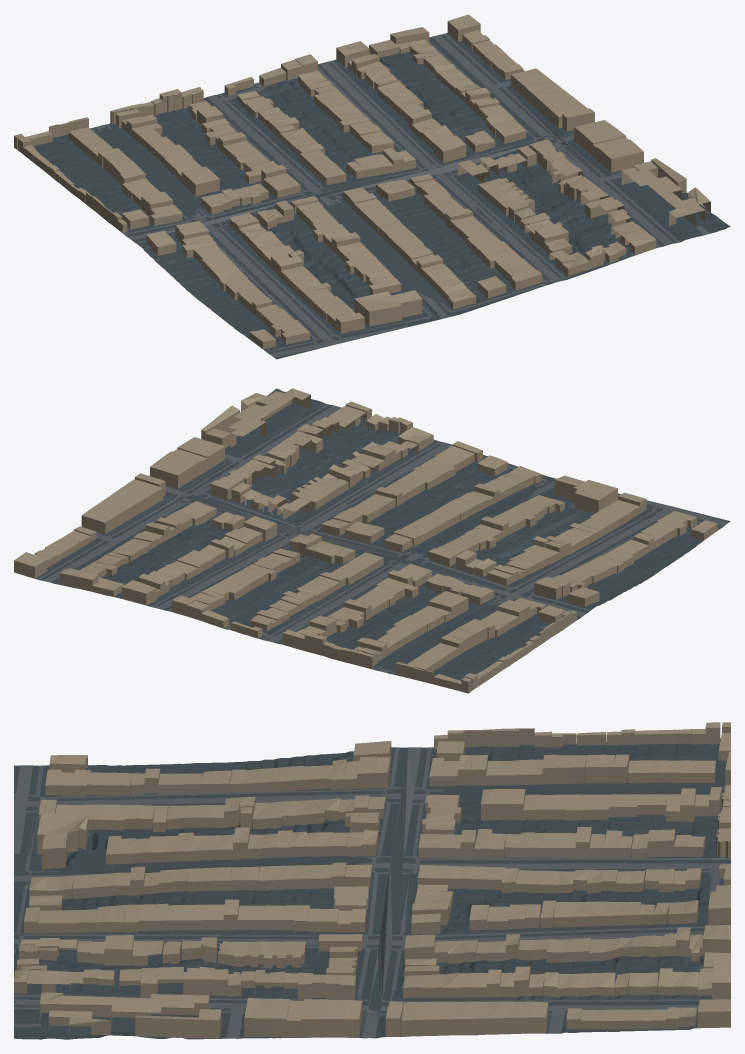
The model's file is epsg26910-1421-10882.lod0.glb.
3 views of the same model, one above another, from view 1: azimuth 30°, elevation 25°; view 2: azimuth 150°, elevation 25°; view 3: azimuth 270°, elevation 25° (orthographic). The views are drawn at different scales.
Parts seen in each view (by area): view 1: epsg26910-1421-10882-lod0; view 2: epsg26910-1421-10882-lod0; view 3: epsg26910-1421-10882-lod0.
Part boxes in pixels (x1,y1,x2,y2): epsg26910-1421-10882-lod0: [14, 14, 730, 359]; epsg26910-1421-10882-lod0: [14, 388, 730, 693]; epsg26910-1421-10882-lod0: [14, 722, 730, 1039].
Size of the model in its own units: 384 by 34.18 by 384.
